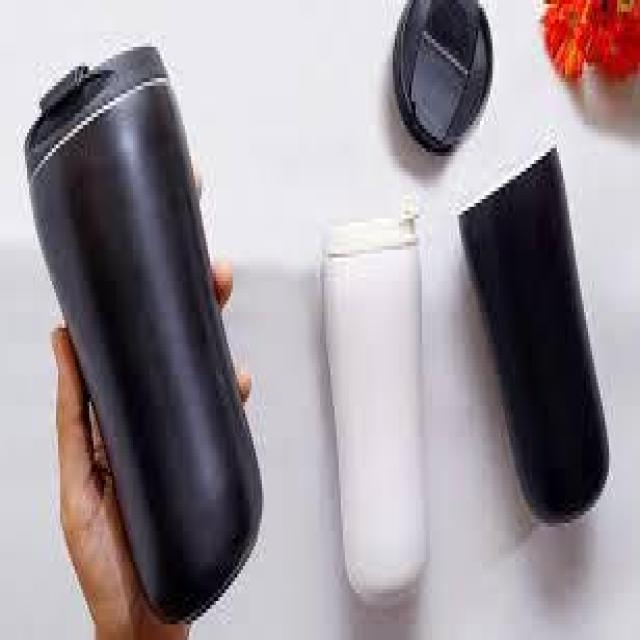bottle: (14, 45, 271, 622), (453, 144, 640, 531), (313, 201, 448, 611)
